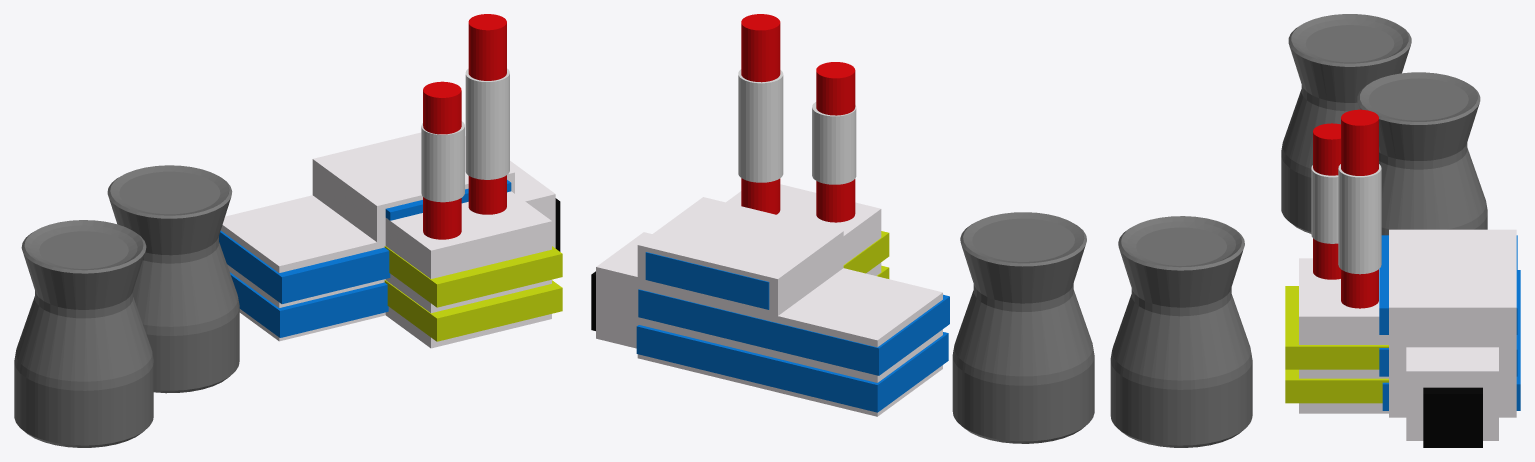
Rendered from PowerPlant.fbx.
3 renders of one model, left to right at view 1: azimuth 30°, elevation 25°; view 2: azimuth 150°, elevation 25°; view 3: azimuth 270°, elevation 25°, orthographic. The views are drawn at different scales.
Visible parts, largest first — view 1: Cube, Cylinder.001, Cylinder, Cube.003, Cube.005, Cube.002, Cube.001, Cylinder.004, Cylinder.003, Cylinder.002, Cylinder.005, Cube.004; view 2: Cube, Cylinder.001, Cylinder, Cube.001, Cube.003, Cylinder.004, Cylinder.003, Cube.004, Cylinder.002, Cylinder.005, Cube.002; view 3: Cube, Cylinder, Cylinder.001, Cylinder.004, Cylinder.003, Cube.006, Cube.002, Cube.005, Cylinder.002, Cylinder.005, Cube.004, Cube.001 (+1 smaller).
Part boxes in pixels (bbox=[...]): Cube: bbox=[221, 132, 555, 348]; Cylinder.001: bbox=[14, 220, 153, 447]; Cylinder: bbox=[107, 165, 239, 393]; Cube.003: bbox=[219, 230, 390, 303]; Cube.005: bbox=[384, 280, 562, 341]; Cube.002: bbox=[384, 246, 562, 307]; Cube.001: bbox=[230, 272, 388, 337]; Cylinder.004: bbox=[465, 68, 509, 179]; Cylinder.003: bbox=[468, 14, 506, 214]; Cylinder.002: bbox=[423, 81, 461, 239]; Cylinder.005: bbox=[421, 121, 464, 202]; Cube.004: bbox=[385, 180, 511, 220]; Cube: bbox=[596, 184, 942, 416]; Cylinder.001: bbox=[1110, 216, 1252, 447]; Cylinder: bbox=[952, 212, 1094, 443]; Cube.001: bbox=[636, 325, 948, 412]; Cube.003: bbox=[638, 289, 949, 375]; Cylinder.004: bbox=[738, 69, 783, 182]; Cylinder.003: bbox=[741, 14, 780, 214]; Cube.004: bbox=[645, 252, 769, 309]; Cylinder.002: bbox=[816, 62, 855, 222]; Cylinder.005: bbox=[812, 102, 856, 184]; Cube.002: bbox=[843, 231, 889, 273]; Cube: bbox=[1299, 229, 1516, 440]; Cylinder: bbox=[1357, 72, 1487, 235]; Cylinder.001: bbox=[1281, 14, 1411, 233]; Cylinder.004: bbox=[1338, 164, 1381, 274]; Cylinder.003: bbox=[1341, 109, 1378, 308]; Cube.006: bbox=[1423, 387, 1482, 447]; Cube.002: bbox=[1285, 286, 1388, 369]; Cube.005: bbox=[1285, 369, 1388, 403]; Cylinder.002: bbox=[1313, 123, 1340, 279]; Cylinder.005: bbox=[1311, 165, 1338, 243]; Cube.004: bbox=[1379, 249, 1517, 334]; Cube.001: bbox=[1382, 270, 1520, 410].
Size of the model in its own units: 2196 by 1079 by 803.
